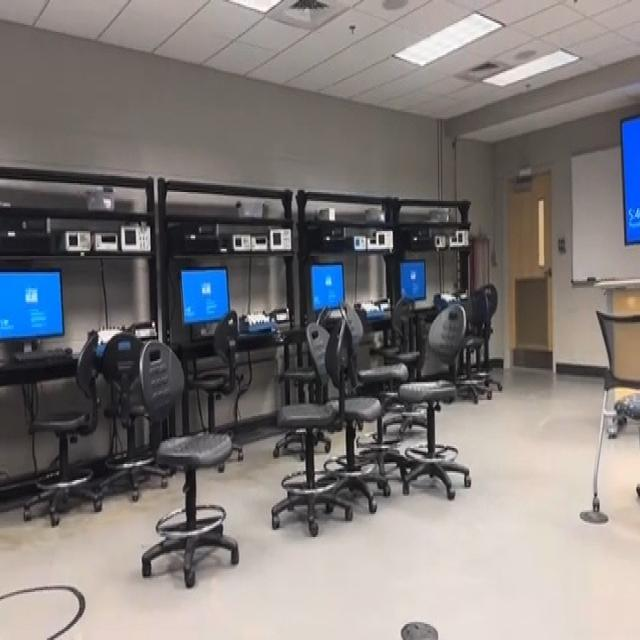drone: (262, 318, 294, 360)
